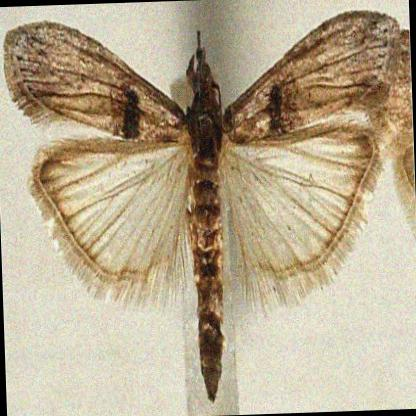Leaf Webber: (0, 9, 403, 398)
